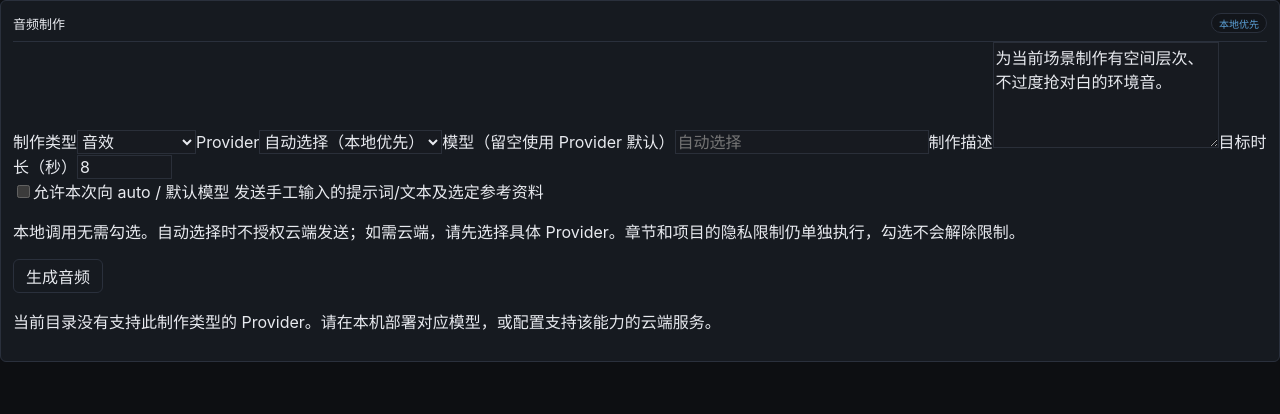
Test: requires a safe source for audio editing
Select "音频编辑" in the dropdown named "音频制作类型" at (136, 142), box x1=77 y1=130 x2=196 y2=154
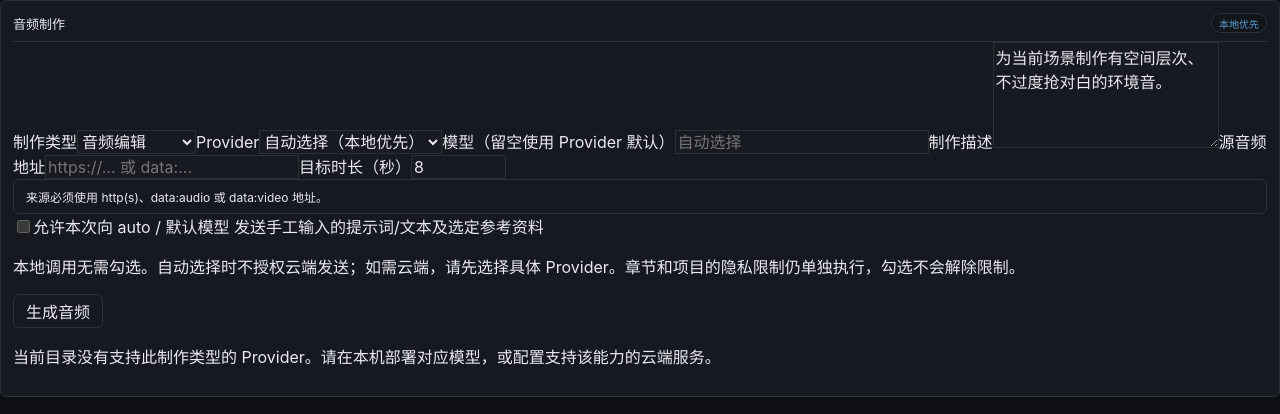
expect the button "生成音频" is disabled: met, box x1=13 y1=294 x2=103 y2=328
expect the text "来源必须使用 http(s)、data:audio 或 data:video 地址。" is shown: met, box x1=13 y1=179 x2=1267 y2=214
Type "https://example.test/source.wav" into the field labelled "源音频地址" at (172, 167), box x1=45 y1=155 x2=299 y2=179
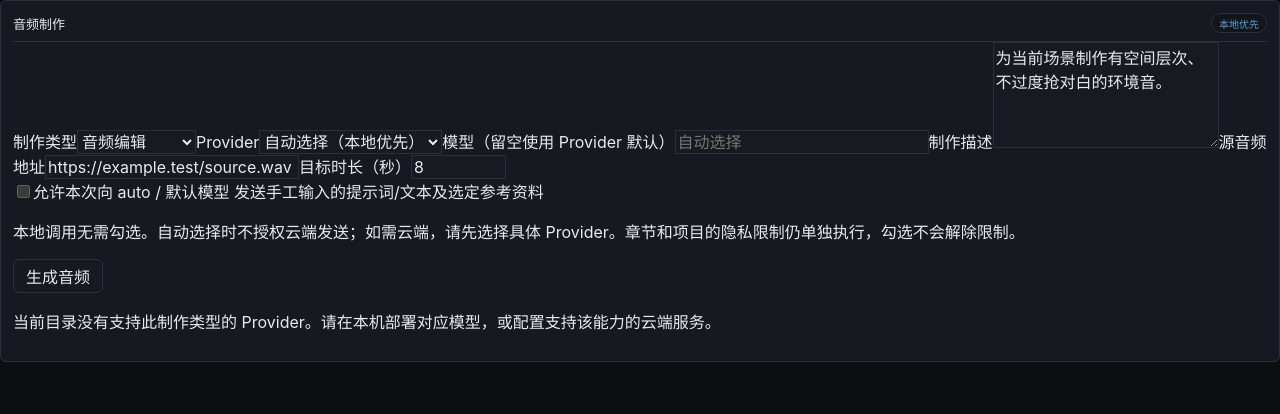
expect the button "生成音频" is enabled: met, box x1=13 y1=259 x2=103 y2=293
